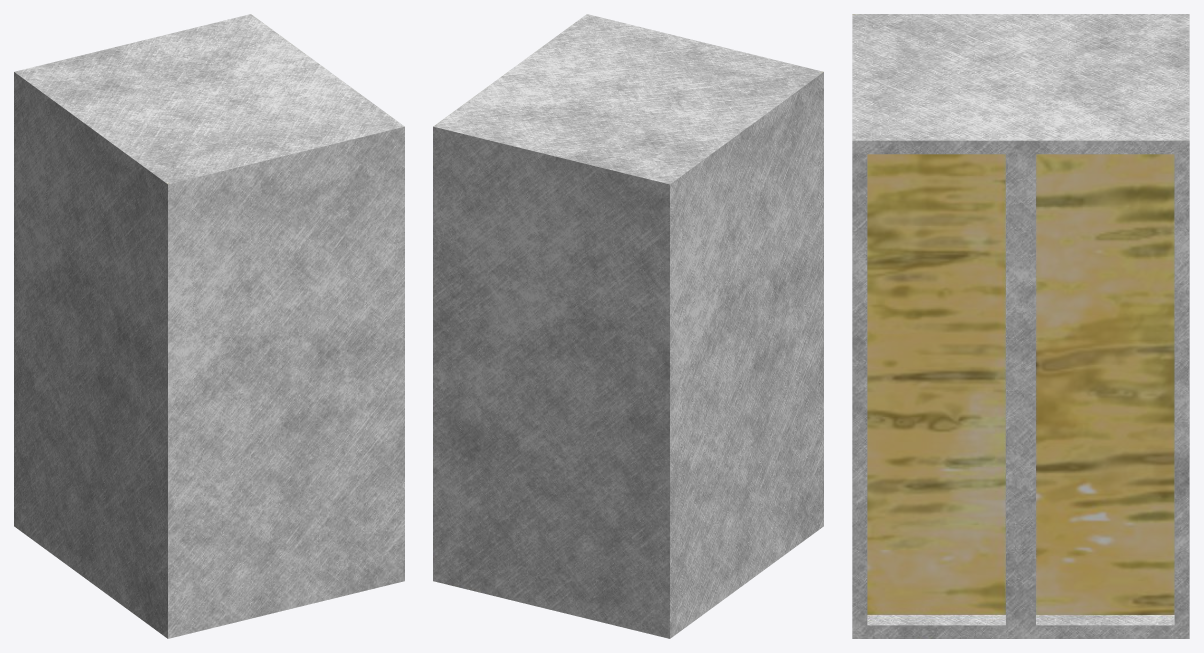
File: shelf1.fbx
The picture shows the model from 3 angles, left to right: view 1: azimuth 30°, elevation 25°; view 2: azimuth 150°, elevation 25°; view 3: azimuth 270°, elevation 25°; orthographic projection. The views are drawn at different scales.
Visible parts, largest first — view 1: Shelf1; view 2: Shelf1; view 3: Shelf1.
Boxes of the visible parts, x1,y1,x2,y2 form: Shelf1: (14, 14, 404, 638); Shelf1: (433, 14, 823, 638); Shelf1: (852, 14, 1189, 638).
Bounding box in the file's own units: 120 × 220 × 135.
1 material, 1 textured.
